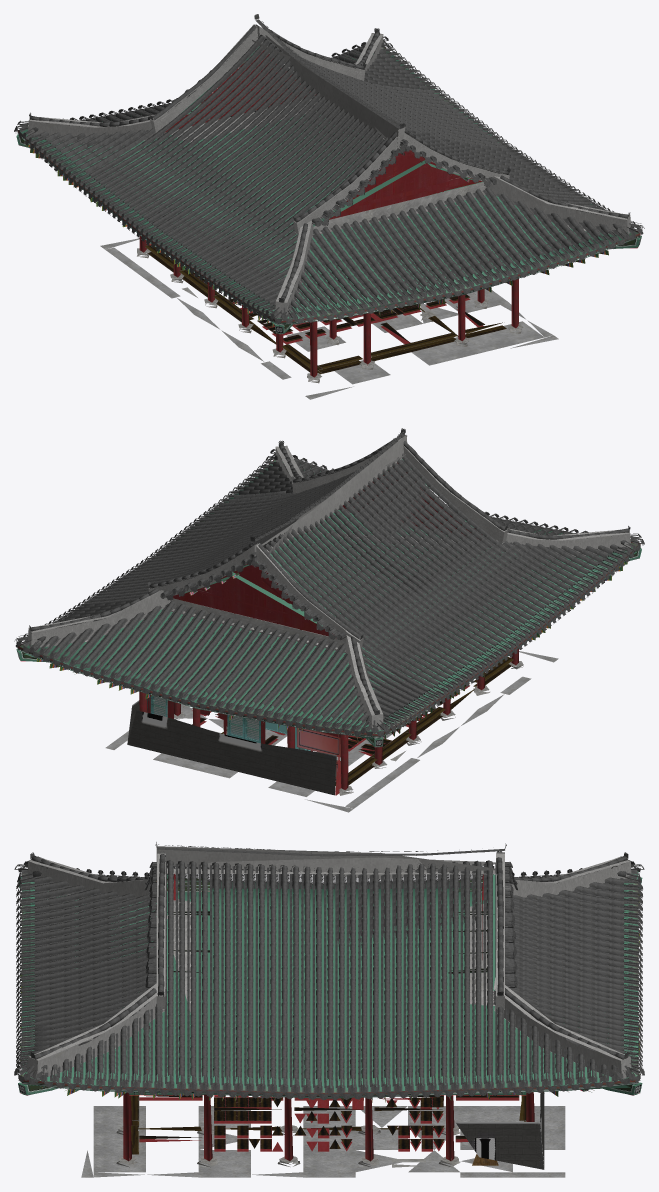
File: uryeon.glb
3 views of the same model, one above another, from view 1: azimuth 30°, elevation 25°; view 2: azimuth 150°, elevation 25°; view 3: azimuth 270°, elevation 25° (orthographic). The views are drawn at different scales.
Parts seen in each view (by area): view 1: 20_Wooryeondang, 20_Wooryeondang_Sugiwa_0.001, 20_Wooryeondang_Sugiwa_0.002, 20_Wooryeondang_Amgiva_0.002, 20_Wooryeondang_Amgiva_0.003, 20_Wooryeondang_Amgiva_0.001, 20_Wooryeondang_Ammakse_0.001, 20_Wooryeondang_Summakse3_0.001; view 2: 20_Wooryeondang, 20_Wooryeondang_Sugiwa_0.001, 20_Wooryeondang_Sugiwa_0.002, 20_Wooryeondang_Amgiva_0.001, 20_Wooryeondang_Amgiva_0.003, 20_Wooryeondang_Amgiva_0.002, 20_Wooryeondang_Ammakse_0.001, 20_Wooryeondang_Summakse3_0.001; view 3: 20_Wooryeondang, 20_Wooryeondang_Sugiwa_0.001, 20_Wooryeondang_Sugiwa_0.002, 20_Wooryeondang_Amgiva_0.001, 20_Wooryeondang_Amgiva_0.002, 20_Wooryeondang_Amgiva_0.003, 20_Wooryeondang_Summakse3_0.001, 20_Wooryeondang_Ammakse_0.001.
Boxes of the visible parts, box(x1,y1,x2,y2) form: 20_Wooryeondang: box(14, 14, 644, 399); 20_Wooryeondang_Sugiwa_0.001: box(86, 34, 611, 308); 20_Wooryeondang_Sugiwa_0.002: box(40, 84, 569, 306); 20_Wooryeondang_Amgiva_0.002: box(91, 47, 621, 314); 20_Wooryeondang_Amgiva_0.003: box(31, 106, 579, 311); 20_Wooryeondang_Amgiva_0.001: box(80, 35, 552, 292); 20_Wooryeondang_Ammakse_0.001: box(24, 103, 507, 314); 20_Wooryeondang_Summakse3_0.001: box(28, 133, 580, 313); 20_Wooryeondang: box(14, 428, 644, 812); 20_Wooryeondang_Sugiwa_0.001: box(46, 461, 571, 722); 20_Wooryeondang_Sugiwa_0.002: box(166, 453, 618, 718); 20_Wooryeondang_Amgiva_0.001: box(75, 510, 493, 713); 20_Wooryeondang_Amgiva_0.003: box(201, 459, 627, 724); 20_Wooryeondang_Amgiva_0.002: box(35, 459, 566, 727); 20_Wooryeondang_Ammakse_0.001: box(114, 507, 619, 732); 20_Wooryeondang_Summakse3_0.001: box(154, 503, 630, 726); 20_Wooryeondang: box(14, 842, 644, 1177); 20_Wooryeondang_Sugiwa_0.001: box(34, 860, 624, 1080); 20_Wooryeondang_Sugiwa_0.002: box(98, 860, 560, 1080); 20_Wooryeondang_Amgiva_0.001: box(26, 865, 632, 1086); 20_Wooryeondang_Amgiva_0.002: box(26, 868, 632, 1067); 20_Wooryeondang_Amgiva_0.003: box(103, 863, 555, 1084); 20_Wooryeondang_Summakse3_0.001: box(76, 868, 582, 1094); 20_Wooryeondang_Ammakse_0.001: box(16, 874, 642, 1038).
Bounding box in the file's own units: 17.13 × 9.83 × 21.24.
Materials: 40 (40 with a texture image).
